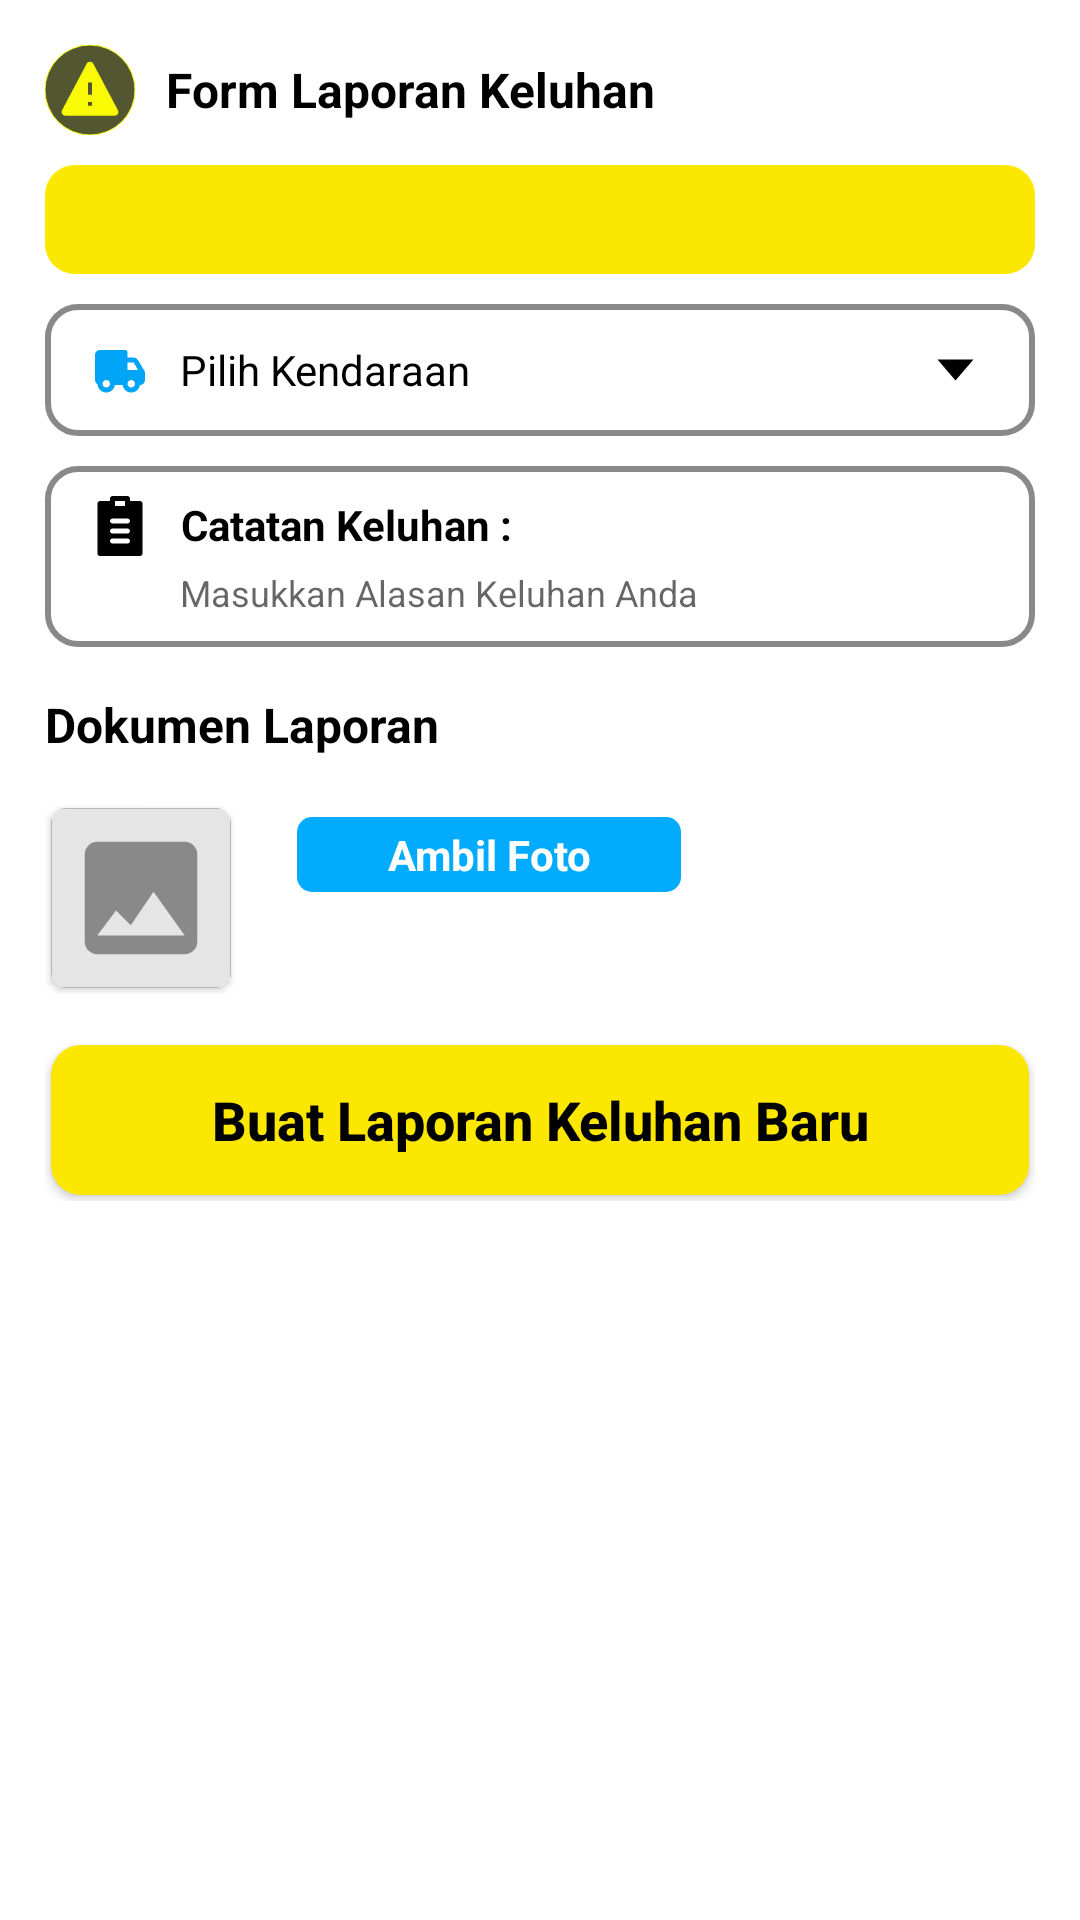

Icons on this 1080 × 1920 Android screen, each with the point to tap as (x=x, y=y):
notepad: (x=120, y=526)
